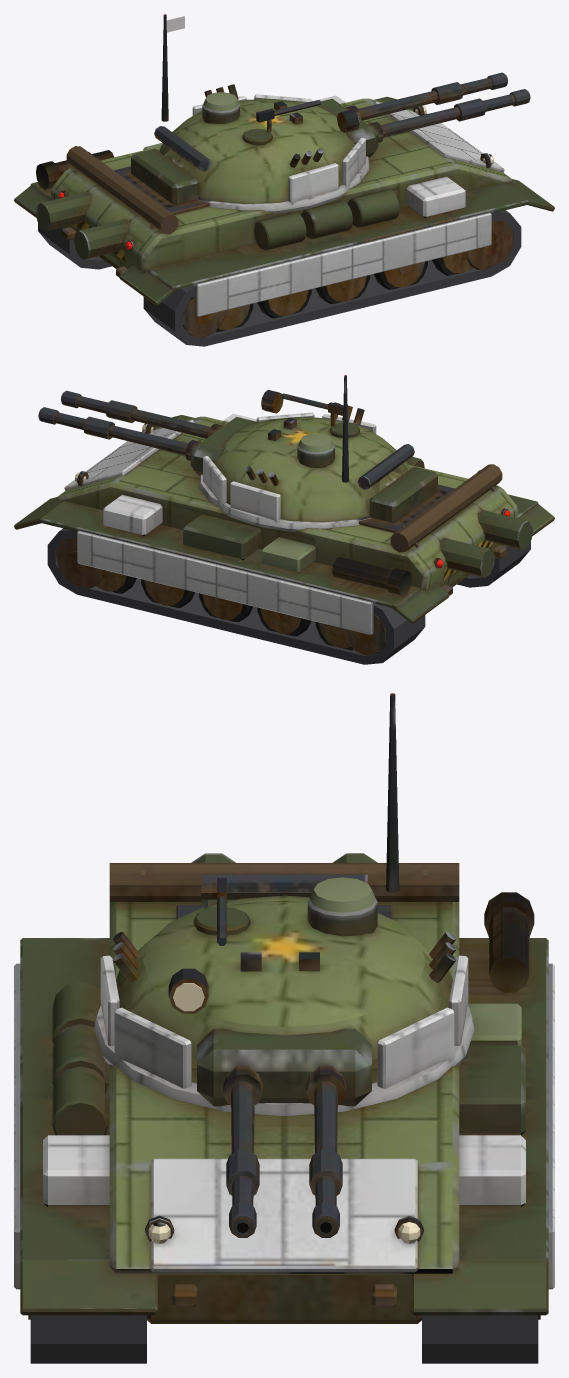
Rendered from 3tnk.soviet.glb.
3 renders of one model, top to bottom at view 1: azimuth 30°, elevation 25°; view 2: azimuth 150°, elevation 25°; view 3: azimuth 270°, elevation 25°, orthographic. The views are drawn at different scales.
Parts seen in each view (by area): view 1: root_mesh, turret_mesh, b0_mesh, b1_mesh; view 2: root_mesh, turret_mesh, b0_mesh, b1_mesh; view 3: root_mesh, turret_mesh, b0_mesh, b1_mesh.
Boxes of the visible parts, x1,y1,x2,y2 form: root_mesh: [14, 95, 554, 346]; turret_mesh: [131, 14, 383, 213]; b0_mesh: [358, 72, 507, 120]; b1_mesh: [380, 89, 530, 137]; root_mesh: [14, 413, 554, 664]; turret_mesh: [185, 375, 437, 531]; b0_mesh: [38, 407, 188, 455]; b1_mesh: [61, 390, 210, 438]; root_mesh: [14, 853, 554, 1363]; turret_mesh: [94, 693, 474, 1116]; b0_mesh: [309, 1081, 342, 1237]; b1_mesh: [226, 1081, 259, 1237].
Size of the model in its own units: 1.17 by 0.606 by 0.65.
Materials: 2 (1 with a texture image).
